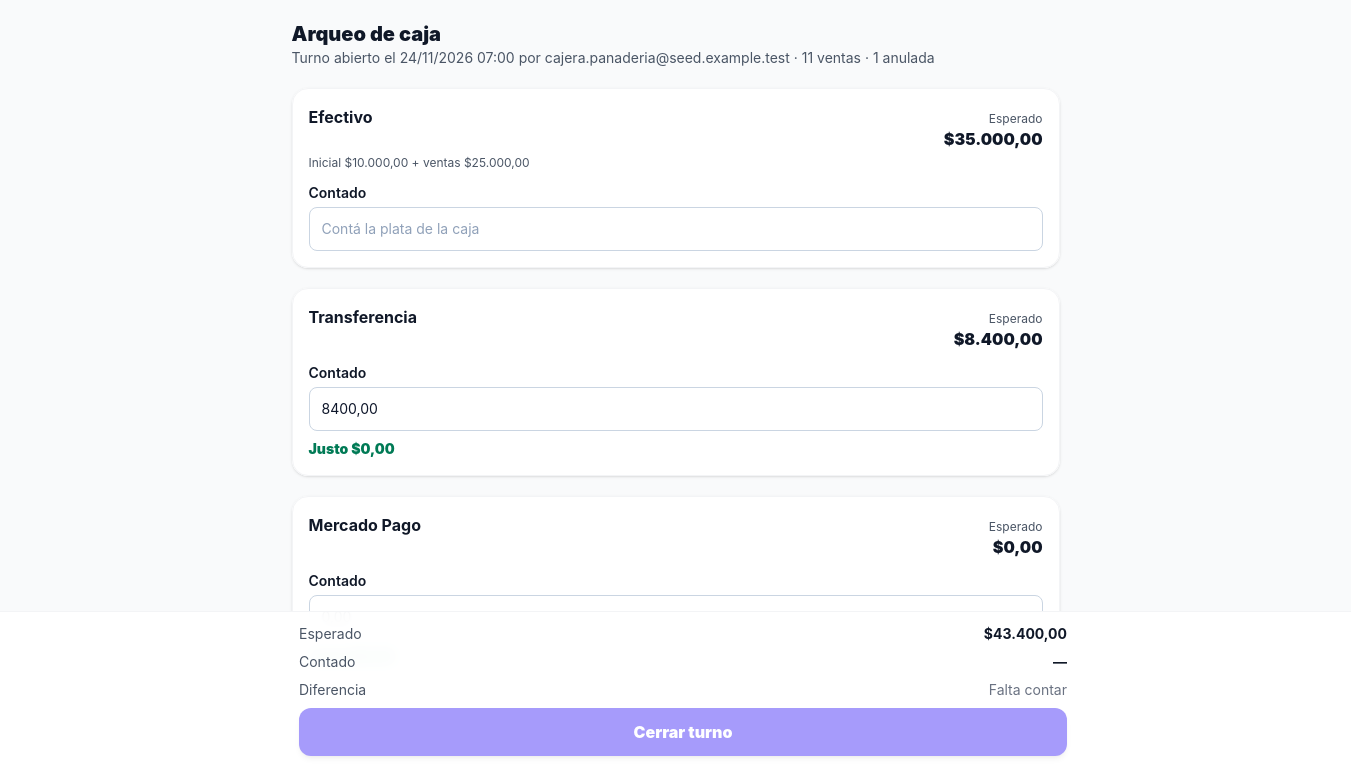
Test: Cierre de caja (/ventas/turnos/:id/cerrar) › un monto inválido no deja cerrar y explica qué escribir
Step 1. Type "-50" into the field named "Contado en efectivo" → (676, 229), box [308,207,1042,251]
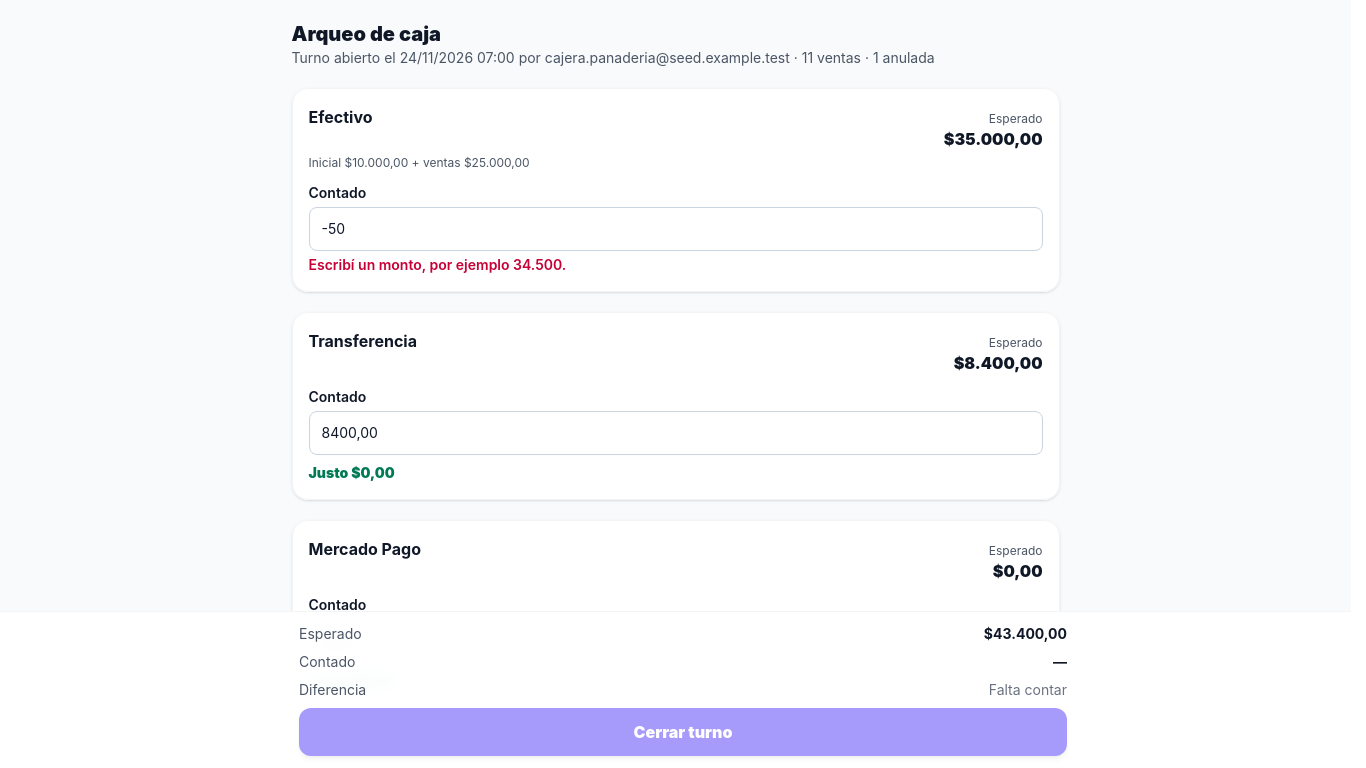
Expected: the button "Cerrar turno" is disabled, [299,708,1067,756]
Result: the text "Escribí un monto, por ejemplo 34.500." is shown at [308,256,566,273]
